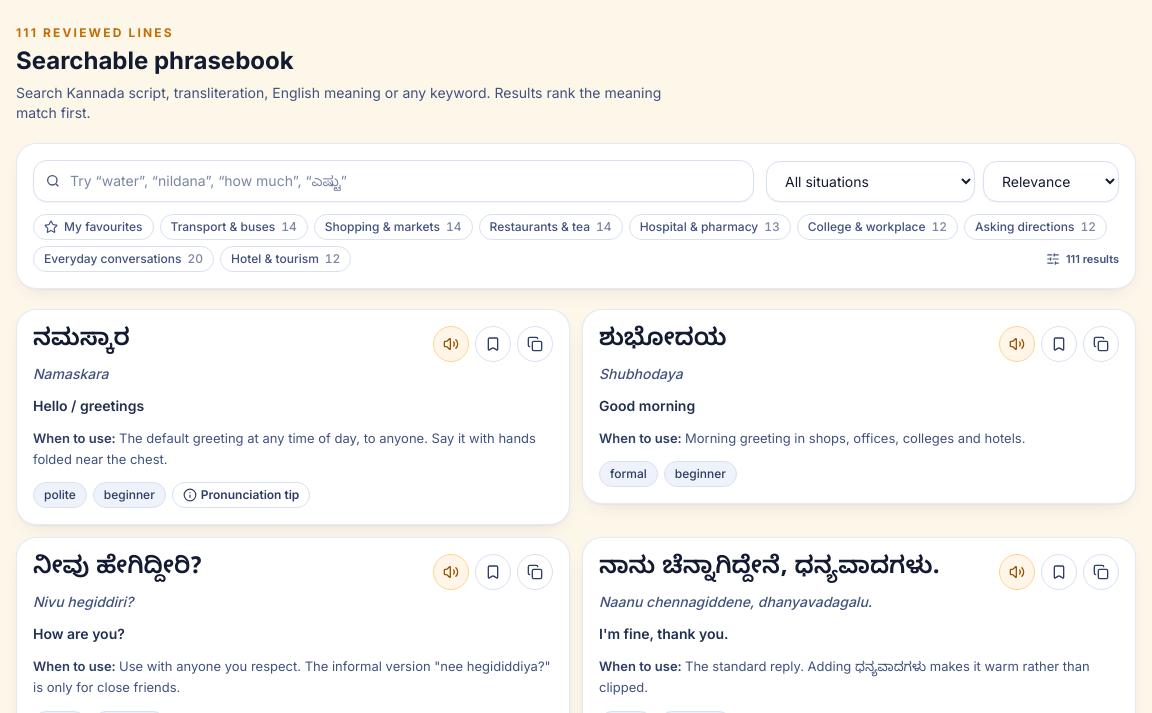
Phrasebook search › filters the real dataset as the learner types
Type "washroom" into the search field named "search phrases" at (394, 181), box [33,160,754,202]
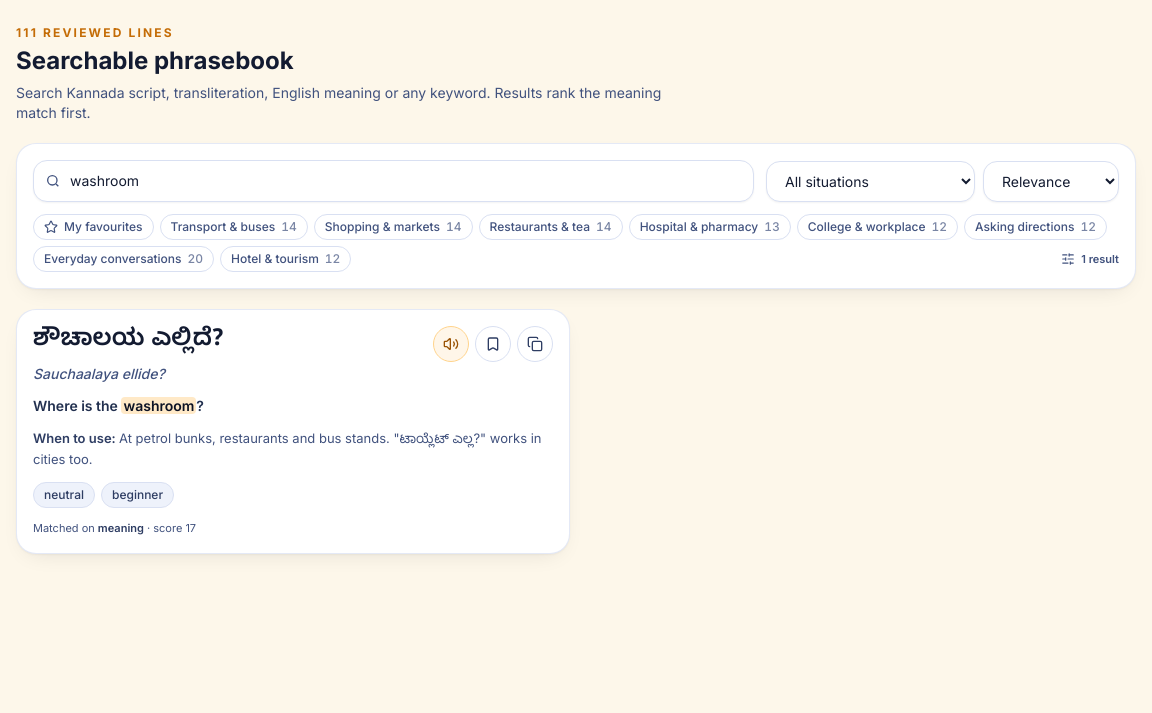
Check: the text "ದಯವಿಟ್ಟು ಬಸ್ ನಿಲ್ದಾಣ ಎಲ್ಲಿದೆ?" is not shown
Check: the text "washroom" is shown, box [121,397,196,414]
Check: the text "ಶೌಚಾಲಯ ಎಲ್ಲಿದೆ?" is shown, box [33,326,224,358]
Clear the search field named "search phrases" at (394, 181), box [33,160,754,202]
(page scrolled)
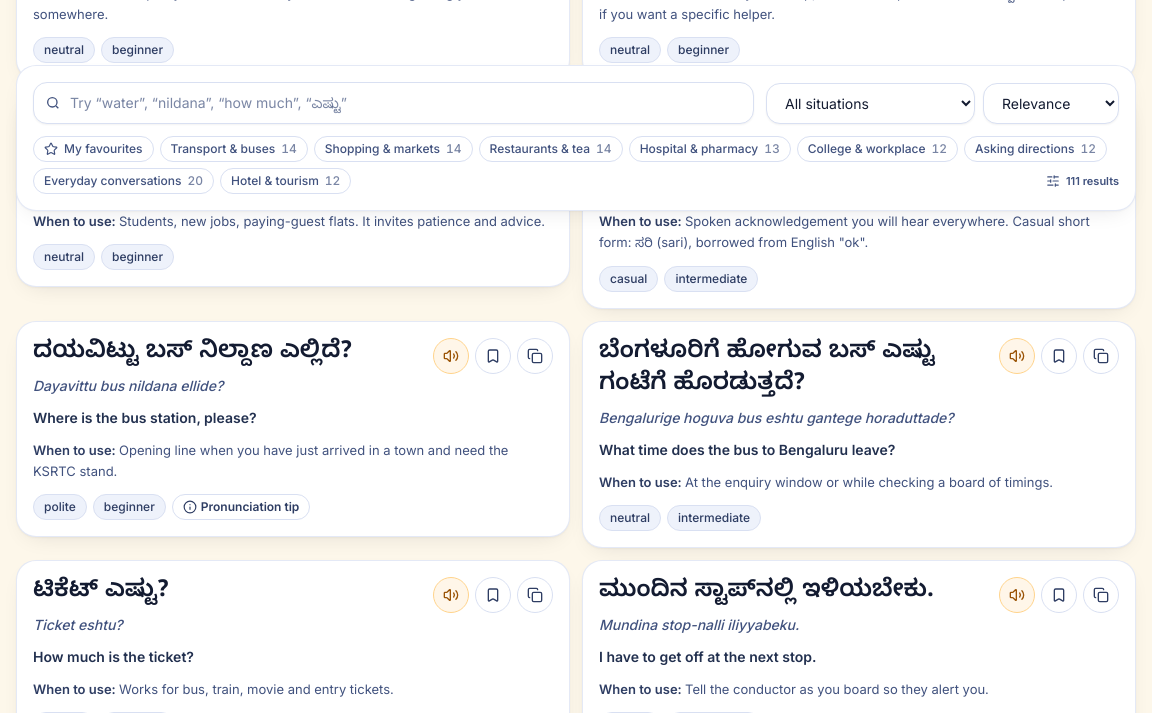
Check: the text "ದಯವಿಟ್ಟು ಬಸ್ ನಿಲ್ದಾಣ ಎಲ್ಲಿದೆ?" is shown, box [33,338,352,370]
